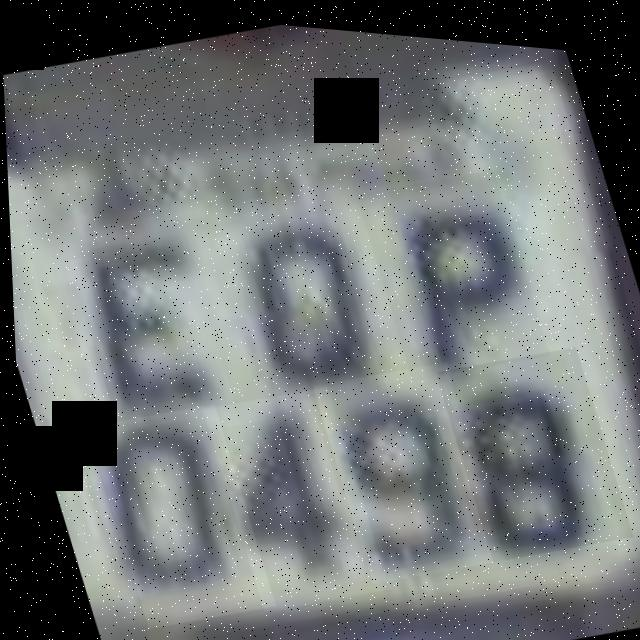0: (82, 391, 271, 635)
4: (198, 371, 387, 616)
8: (432, 326, 630, 562)
9: (308, 345, 503, 587)
E: (50, 226, 238, 455)
P: (353, 150, 549, 383)
